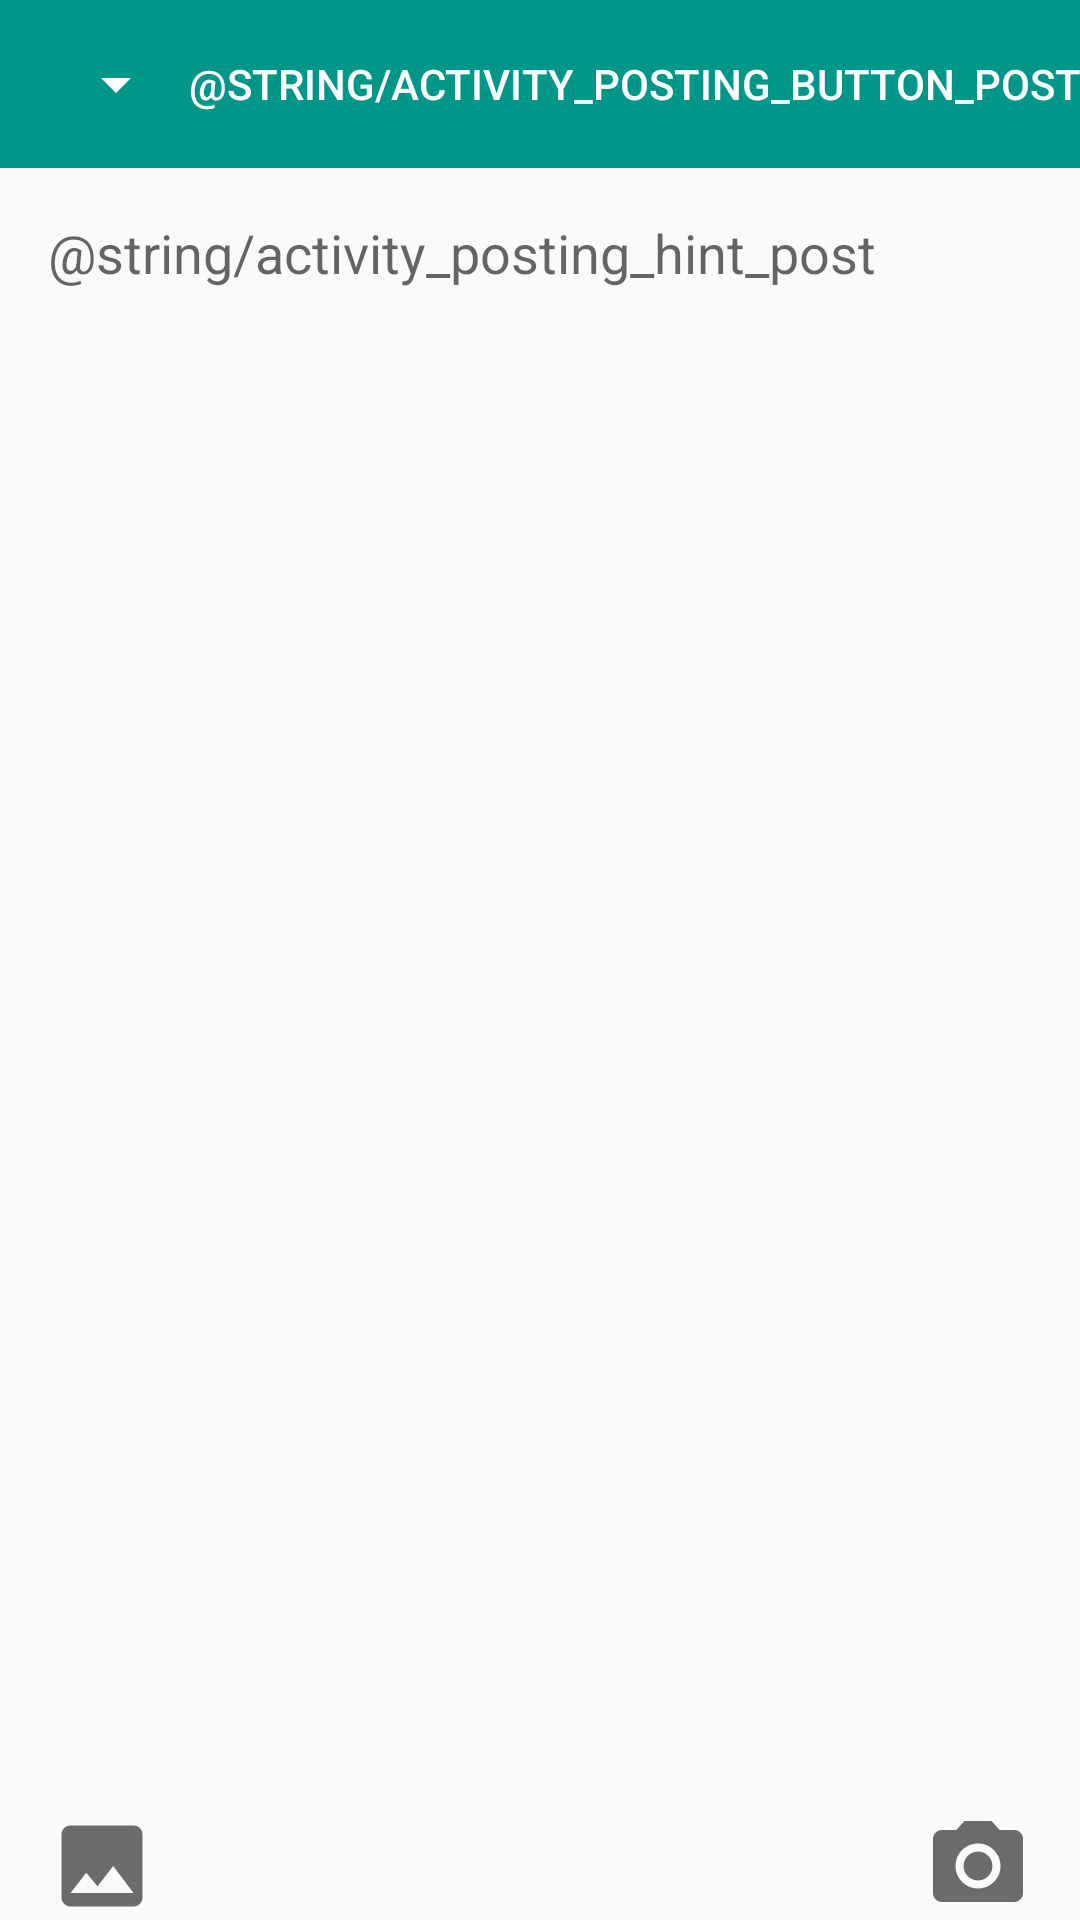

Named icons in this screenshot (1080 × 1920) and their centers, (x=x, y=y):
photo: (x=102, y=1866)
photo camera: (x=978, y=1861)
